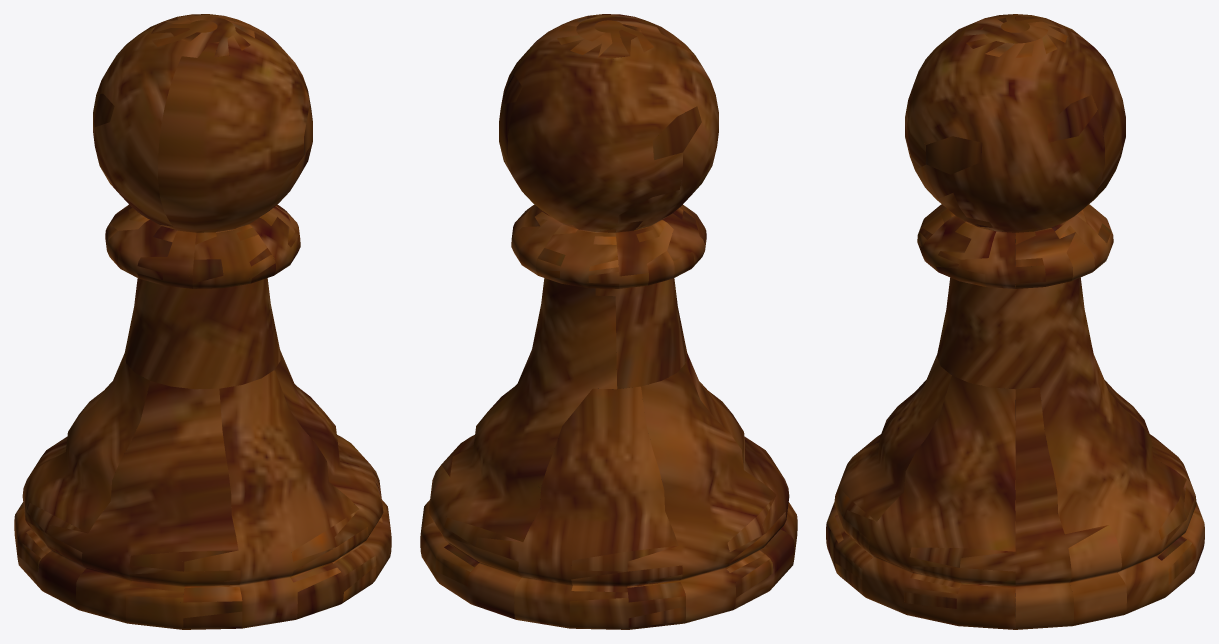
The model's file is WhitePawn.obj.
3 views of the same model, side by side, from view 1: azimuth 30°, elevation 25°; view 2: azimuth 150°, elevation 25°; view 3: azimuth 270°, elevation 25° (orthographic).
Visible parts, largest first — view 1: PEDONE12; view 2: PEDONE12; view 3: PEDONE12.
Boxes of the visible parts, x1=… form: PEDONE12: x1=14, y1=14, x2=391, y2=629; PEDONE12: x1=420, y1=14, x2=797, y2=629; PEDONE12: x1=826, y1=14, x2=1204, y2=629.
Size of the model in its own units: 136 by 210 by 136.
